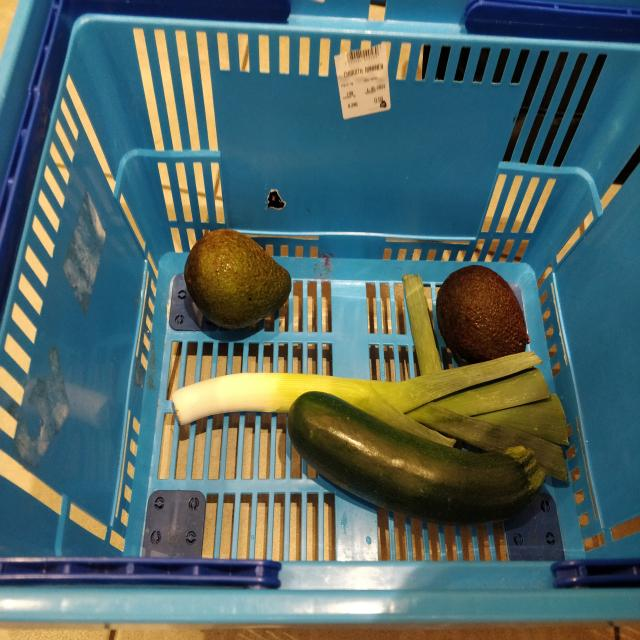avocado: (184, 229, 292, 330), (436, 265, 530, 367)
leek: (170, 350, 572, 481)
yogurt: (287, 391, 547, 526)
